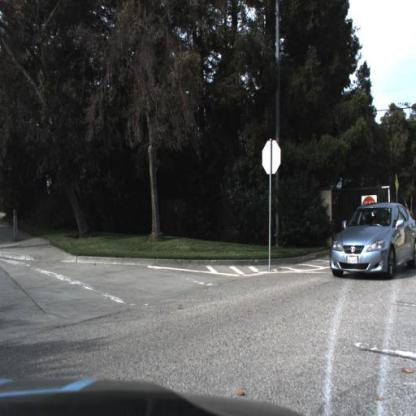car: (331, 203, 416, 281)
